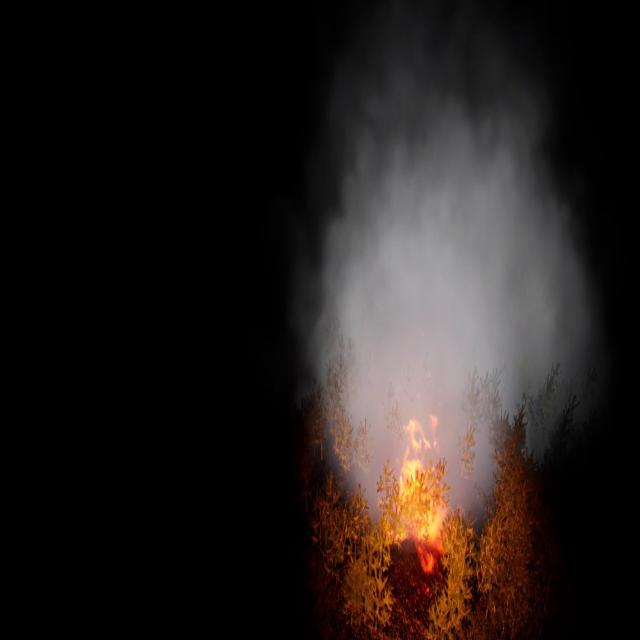fire: (396, 405, 449, 570)
smoke: (296, 22, 603, 528)
